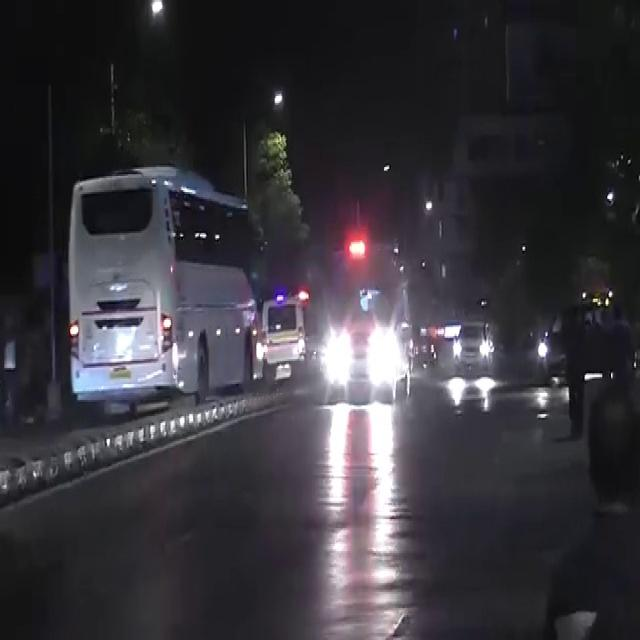ambulance: (304, 232, 414, 408)
